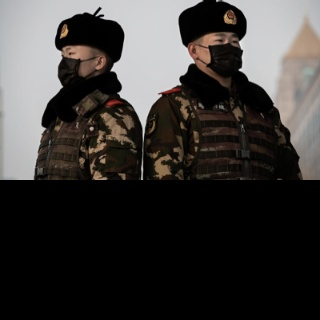with_mask: (197, 32, 243, 75), (58, 46, 96, 87)
